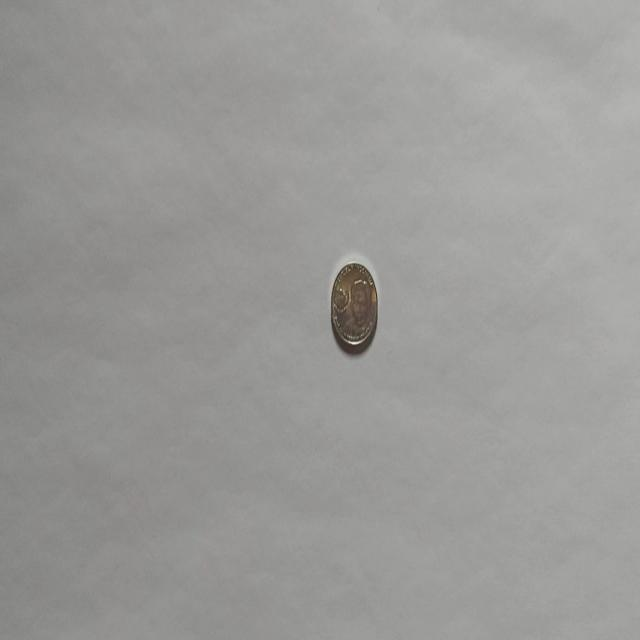seratus rupiah: (330, 260, 378, 350)
